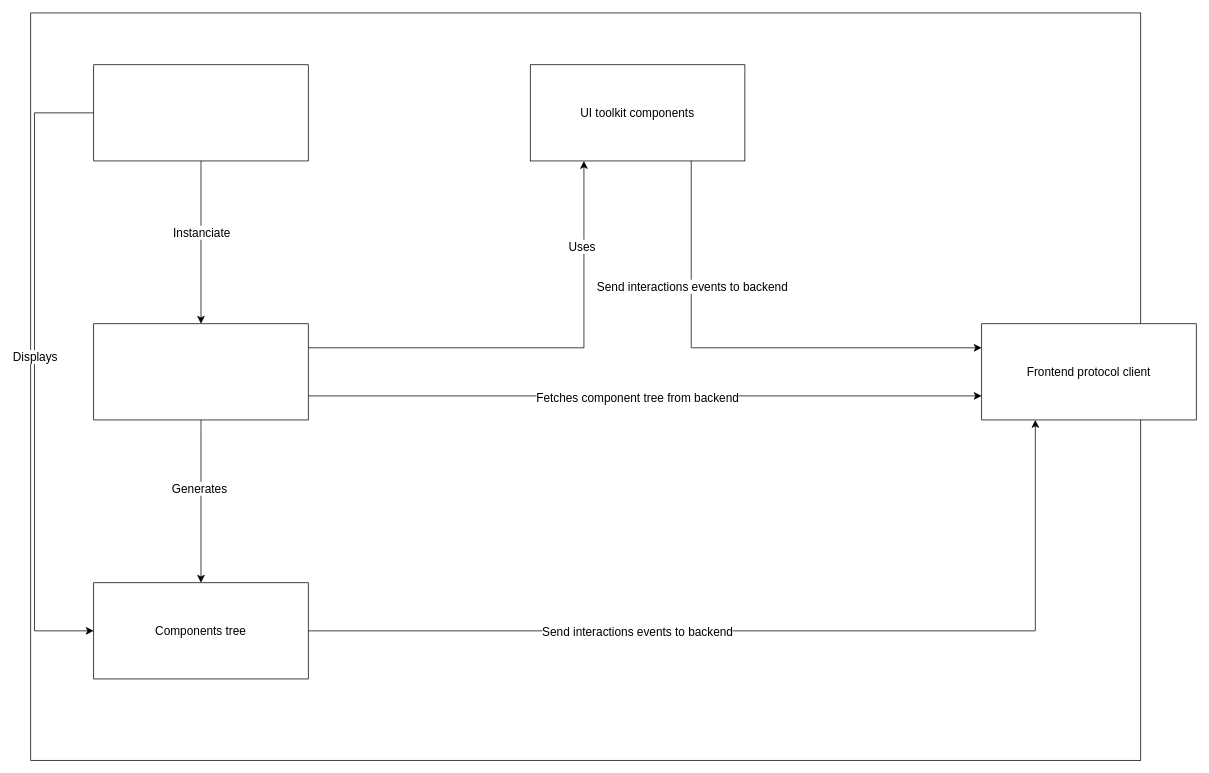
Some shapes in this 1209 by 773 pixel diagram are drawn without their labels. Each missing label, with the centre of its shape:
"ComponentBuilder" goes at point (200, 371).
"React" goes at point (200, 112).
